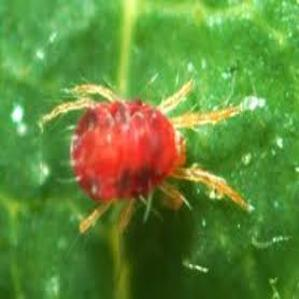spider mite: (40, 66, 260, 252)
